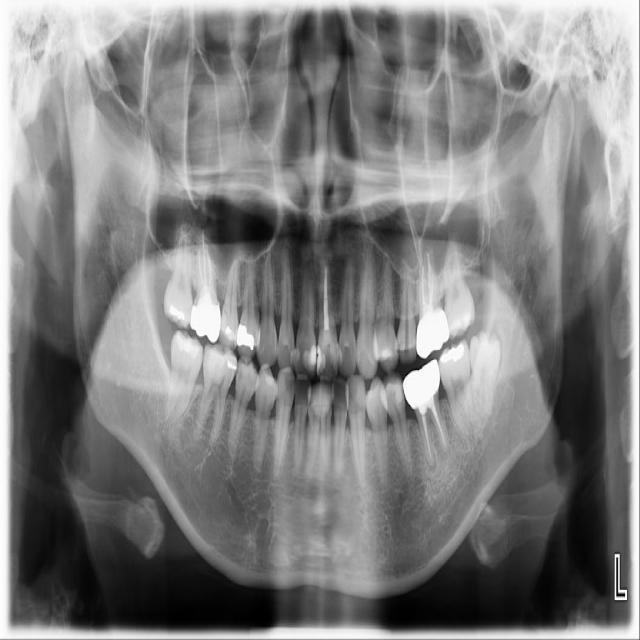52: (395, 358, 454, 413), (426, 336, 483, 391), (192, 339, 244, 392), (188, 288, 226, 344), (415, 303, 451, 360), (169, 329, 205, 384), (162, 274, 195, 331), (443, 284, 476, 340), (370, 321, 402, 375), (234, 312, 262, 365), (293, 323, 318, 378), (317, 329, 339, 380), (217, 308, 242, 352), (339, 329, 357, 376)
73: (413, 399, 453, 470), (191, 228, 219, 304), (417, 246, 443, 318), (312, 259, 336, 330), (603, 544, 615, 562)
BioHorizons Implant: (440, 232, 477, 340)
Biomet 3i Implant: (458, 327, 505, 418)
Blue Sky Bio Implant: (435, 337, 480, 442)
Caries: (160, 224, 195, 331)
Implant: (161, 329, 207, 428)
